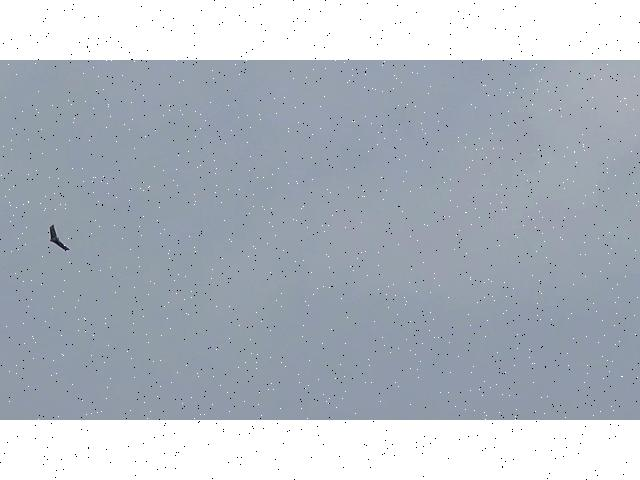Anti-Drone: (49, 224, 71, 250)
